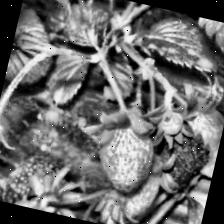Powdery Mildew Fruit: (85, 104, 163, 198), (148, 93, 224, 185), (98, 138, 168, 224)
